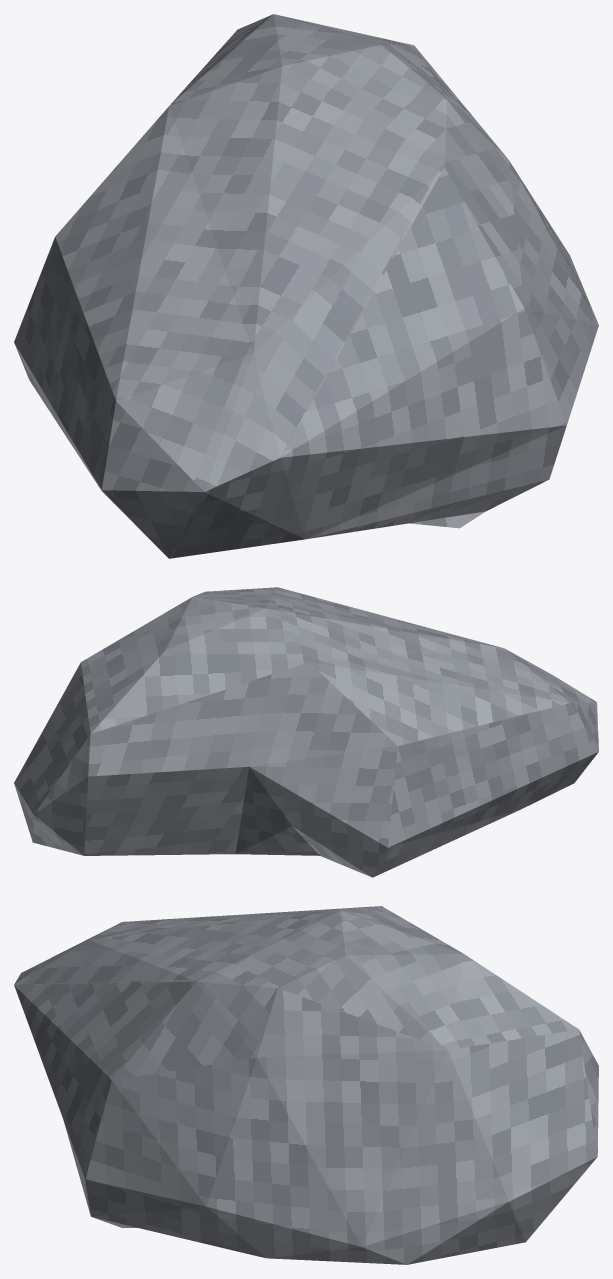
File: Stone_4.fbx
3 views of the same model, one above another, from view 1: azimuth 30°, elevation 25°; view 2: azimuth 150°, elevation 25°; view 3: azimuth 270°, elevation 25° (orthographic). The views are drawn at different scales.
Visible parts, largest first — view 1: Stone.003; view 2: Stone.003; view 3: Stone.003.
Part boxes in pixels (x1=…): Stone.003: x1=14, y1=14, x2=598, y2=558; Stone.003: x1=14, y1=587, x2=598, y2=877; Stone.003: x1=14, y1=906, x2=598, y2=1264.
Size of the model in its own units: 0.9166 by 0.9173 by 0.5292.
1 material, 1 textured.
